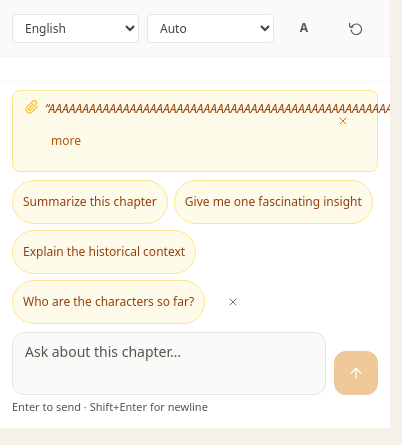
Test: InsightChat — ContextChip expand/collapse (L78) › toggles ContextChip back from 'less' to 'more' on second click
What coordinates should you click on to do the following:
click the button with aria-label "Toggle context"
I would click on:
 (66, 140)
Its box is [51, 118, 81, 162].
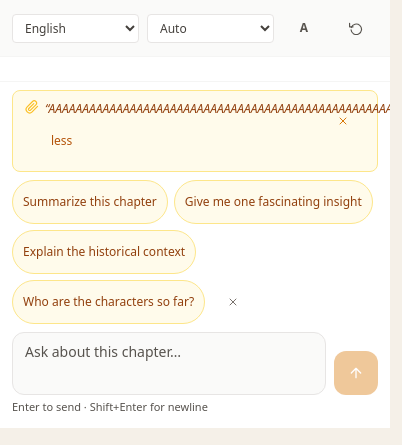
What coordinates should you click on to do the following:
click the button with aria-label "Toggle context"
I would click on:
 (62, 140)
Its box is [51, 118, 72, 162].
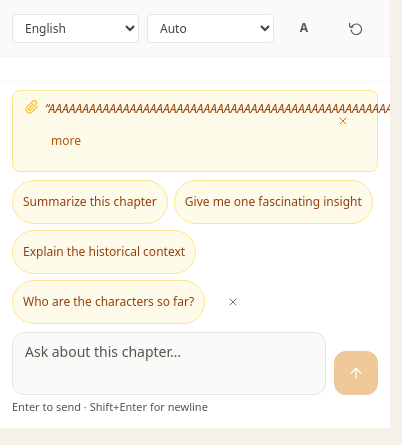
expect the button with aria-label "Toggle context" is collapsed: met, box [51, 118, 81, 162]
